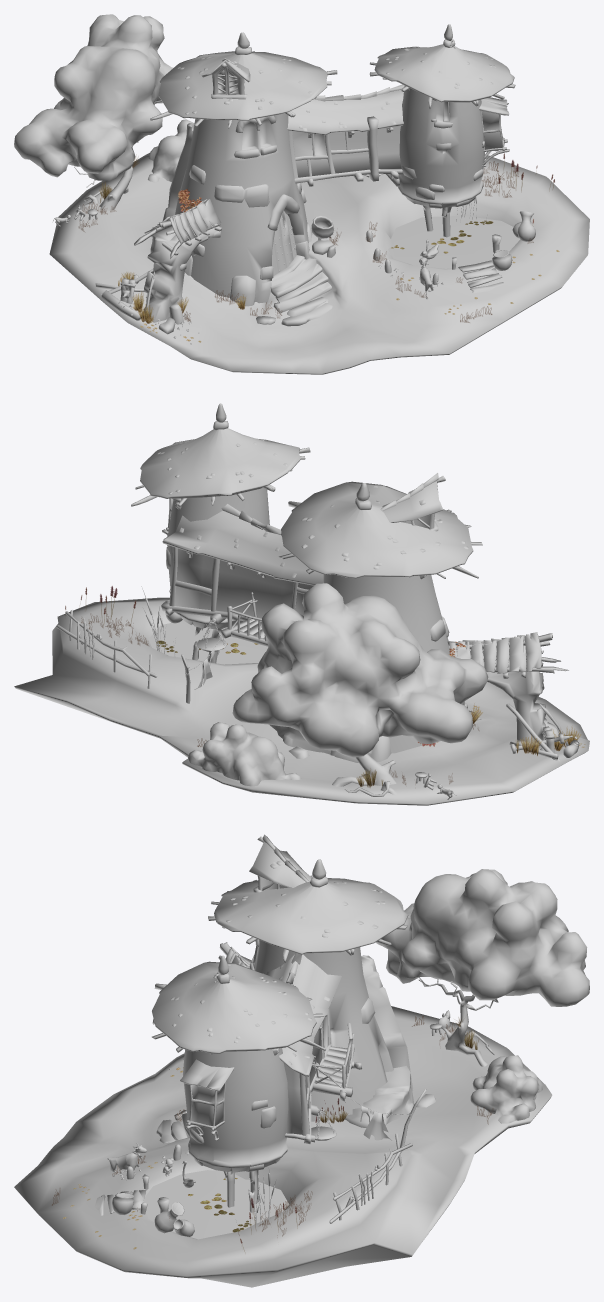
3 views of the same model, one above another, from view 1: azimuth 30°, elevation 25°; view 2: azimuth 150°, elevation 25°; view 3: azimuth 270°, elevation 25° (orthographic). The views are drawn at different scales.
Visible parts, largest first — view 1: tol, plants, grass, plants_dark; view 2: tol, plants, plants_dark; view 3: tol, plants_dark, grass.
Part boxes in pixels (x1,y1,x2,y2): tol: (14, 14, 589, 374); plants: (118, 152, 559, 342); grass: (78, 161, 533, 322); plants_dark: (99, 153, 554, 240); tol: (14, 403, 589, 805); plants: (225, 641, 585, 755); plants_dark: (65, 586, 383, 787); tol: (14, 834, 589, 1287); plants_dark: (214, 1017, 478, 1251); grass: (52, 1016, 491, 1236).
Size of what is drawn, in the model's own units: 8.14 by 5.16 by 7.7.
